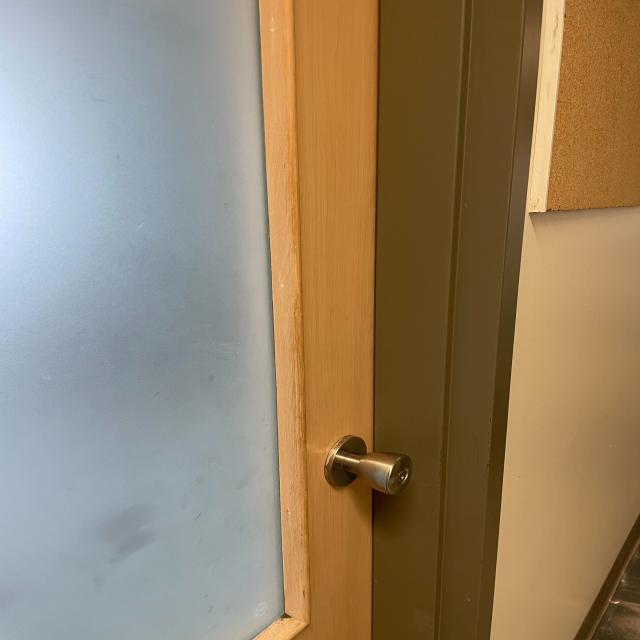door-knob: (325, 435, 412, 495)
